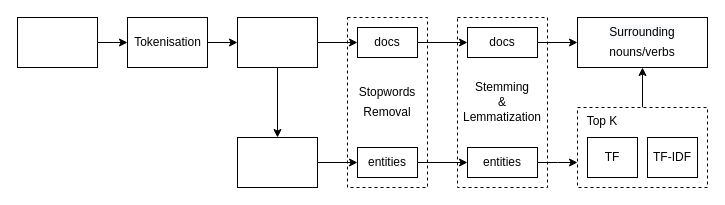
The diagram is 725 pixels wide and 205 high, and some of its shapes have lost their labels. The shapes that lost their labels are listed below. From the top down, each one's box as (x1, y1, x2, y2) in pixels, then its label:
(16, 16, 98, 68): Cleaning
(236, 16, 318, 68): POS Tagging
(236, 136, 318, 188): NER
